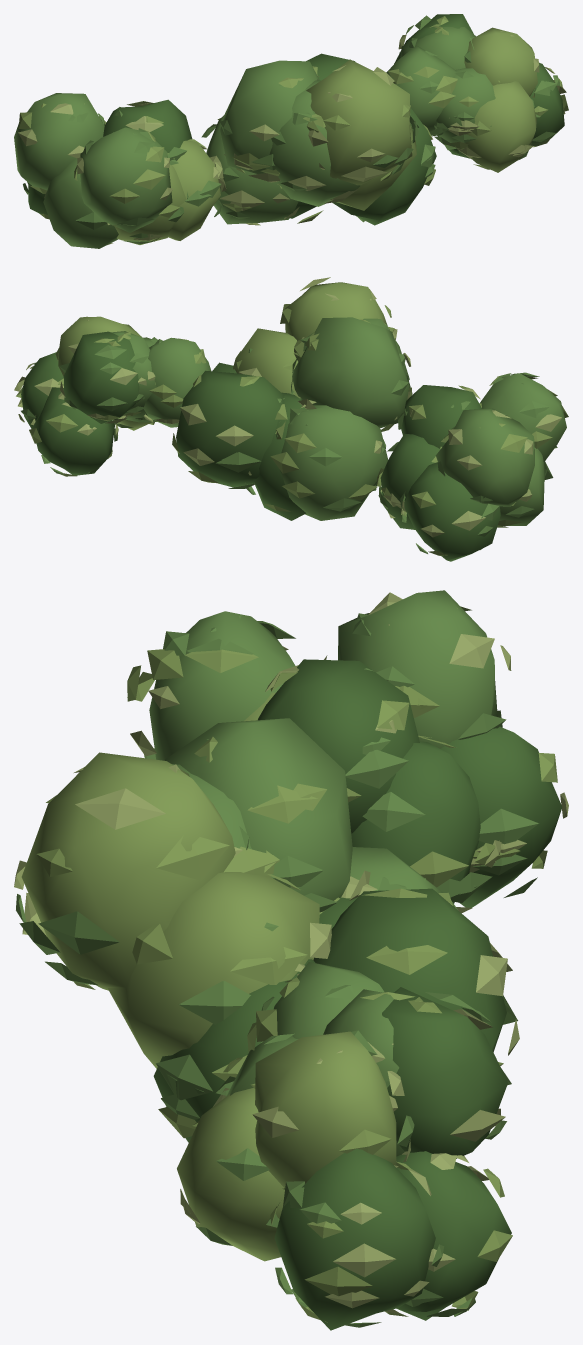
File: fine-shrubs.glb
3 views of the same model, one above another, from view 1: azimuth 30°, elevation 25°; view 2: azimuth 150°, elevation 25°; view 3: azimuth 270°, elevation 25° (orthographic). The views are drawn at different scales.
Parts seen in each view (by area): view 1: fine-shrubs; view 2: fine-shrubs; view 3: fine-shrubs.
Boxes of the visible parts, bbox=[...] form: fine-shrubs: bbox=[14, 14, 568, 248]; fine-shrubs: bbox=[14, 277, 568, 561]; fine-shrubs: bbox=[14, 590, 568, 1330].
Bounding box in the file's own units: 4.88 × 1.71 × 2.24.
